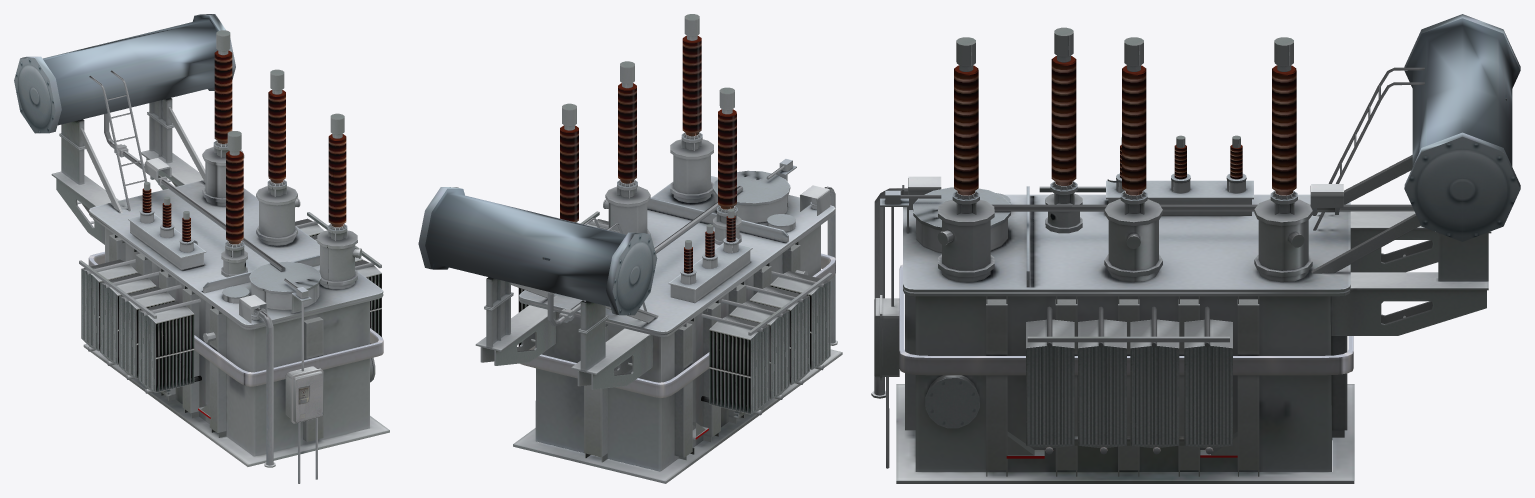
Rendered from transformer_1005_01_01.obj.
3 views of the same model, side by side, from view 1: azimuth 30°, elevation 25°; view 2: azimuth 150°, elevation 25°; view 3: azimuth 270°, elevation 25° (orthographic). The views are drawn at different scales.
Bounding box in the file's own units: 3.85 × 5.37 × 6.87.
3 materials, 3 textured.
